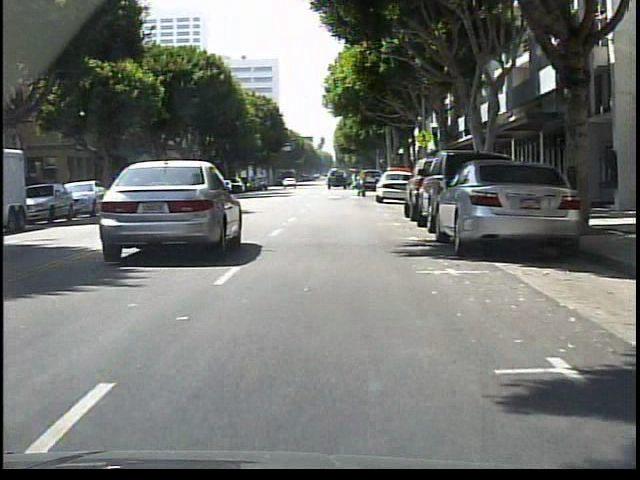person: (354, 168, 369, 197), (353, 169, 354, 188)
